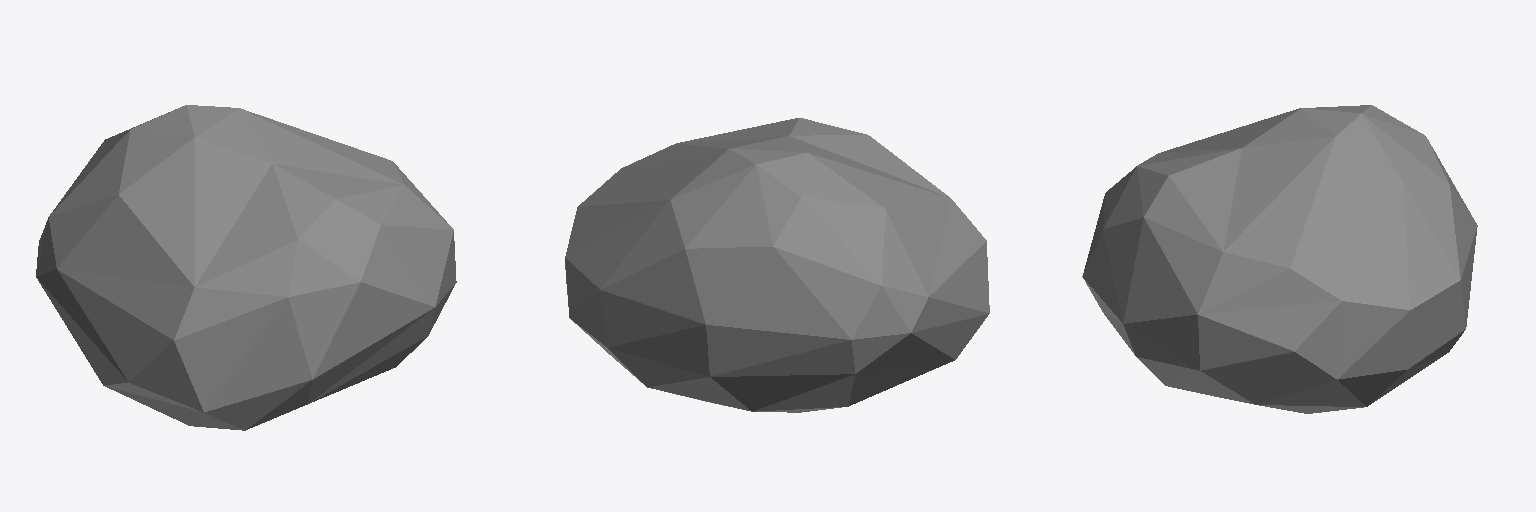
The picture shows the model from 3 angles: view 1: azimuth 30°, elevation 25°; view 2: azimuth 150°, elevation 25°; view 3: azimuth 270°, elevation 25°; orthographic projection.
Visible parts, largest first — view 1: Sphere; view 2: Sphere; view 3: Sphere.
Boxes of the visible parts, box(x1,y1,x2,y2) form: Sphere: box(36, 105, 456, 430); Sphere: box(565, 118, 989, 412); Sphere: box(1082, 105, 1477, 413).
Bounding box in the file's own units: 3.88 × 2.62 × 3.65.
1 materials, 1 textured.